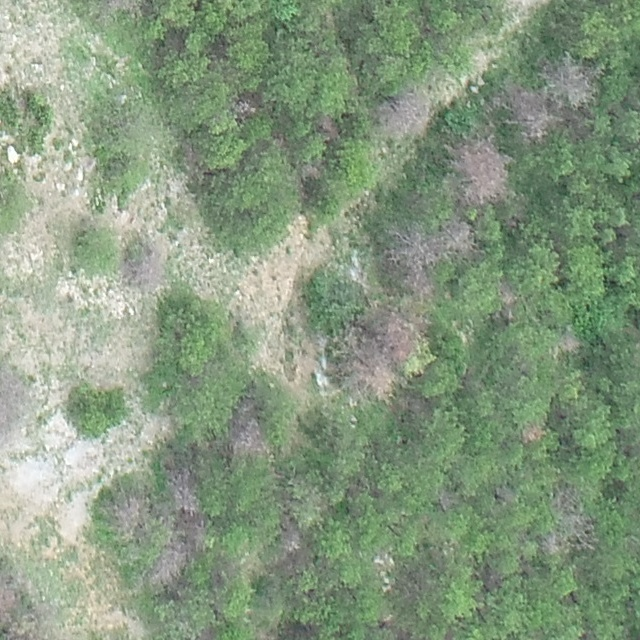unhealthy: (452, 135, 511, 204), (385, 227, 439, 297), (362, 298, 426, 357), (376, 88, 435, 139), (549, 488, 595, 552), (539, 58, 600, 105), (508, 88, 551, 143), (228, 404, 267, 459), (149, 540, 191, 587), (0, 371, 31, 433), (353, 359, 397, 400), (110, 493, 149, 538), (127, 250, 169, 290), (164, 467, 200, 513), (438, 217, 478, 257), (0, 571, 20, 623), (279, 518, 304, 553), (497, 282, 518, 314), (231, 95, 257, 120), (559, 330, 581, 353), (317, 114, 339, 137), (522, 423, 546, 444), (104, 0, 144, 12), (437, 489, 458, 510), (251, 628, 280, 639)
